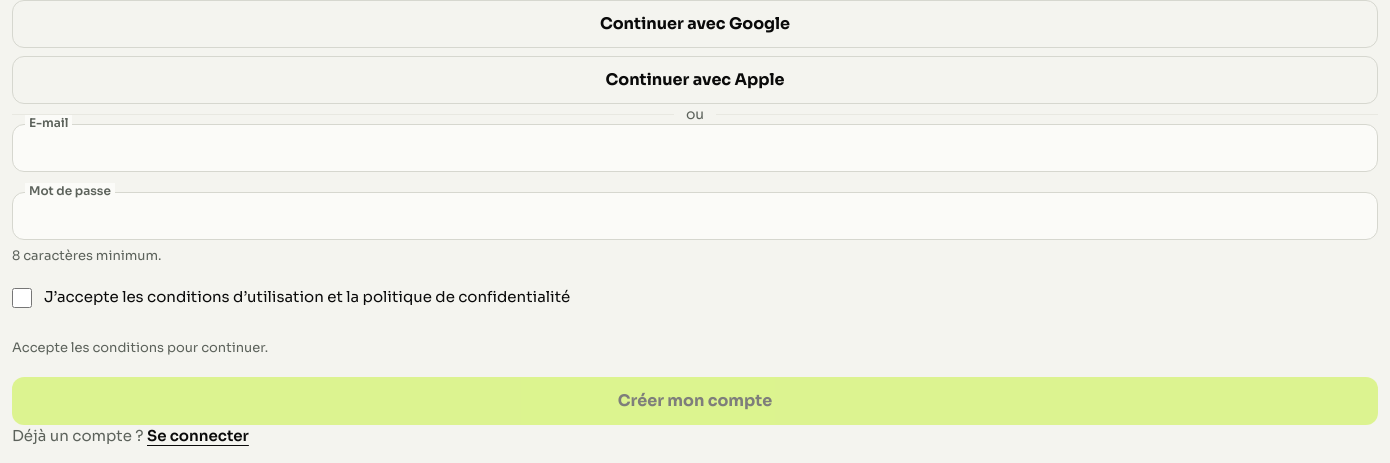
Scenario: inscription › bouton désactivé tant que les conditions ne sont pas acceptées
expect the button "Créer mon compte" is disabled: met, box [12,377,1378,425]
expect the text "Accepte les conditions pour continuer." is shown: met, box [12,338,268,356]
Click the checkbox at (22,298), box [12,288,32,308]
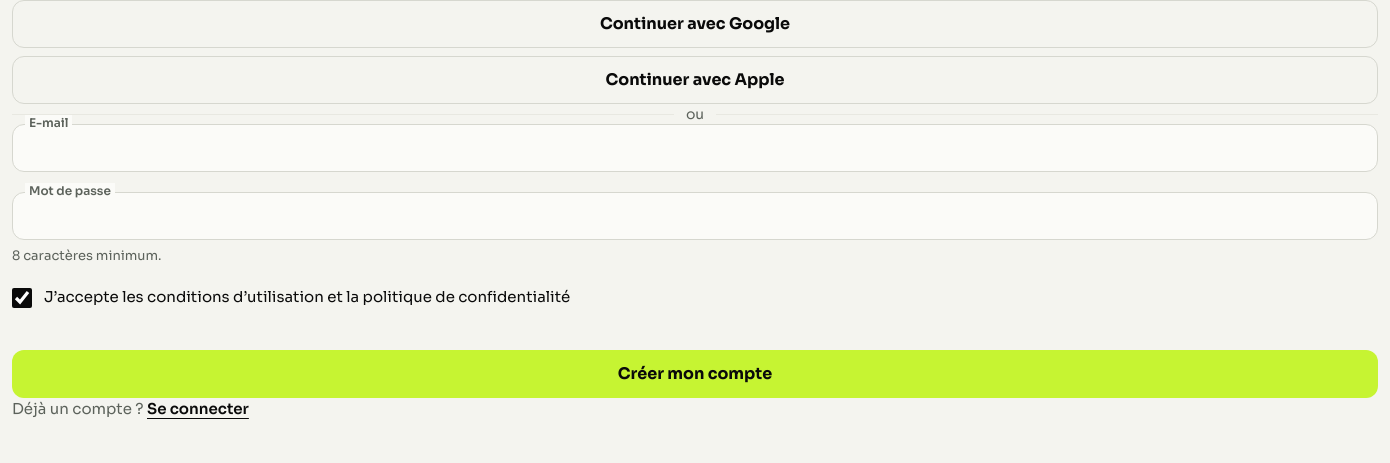
expect the button "Créer mon compte" is enabled: met, box [12,350,1378,398]
